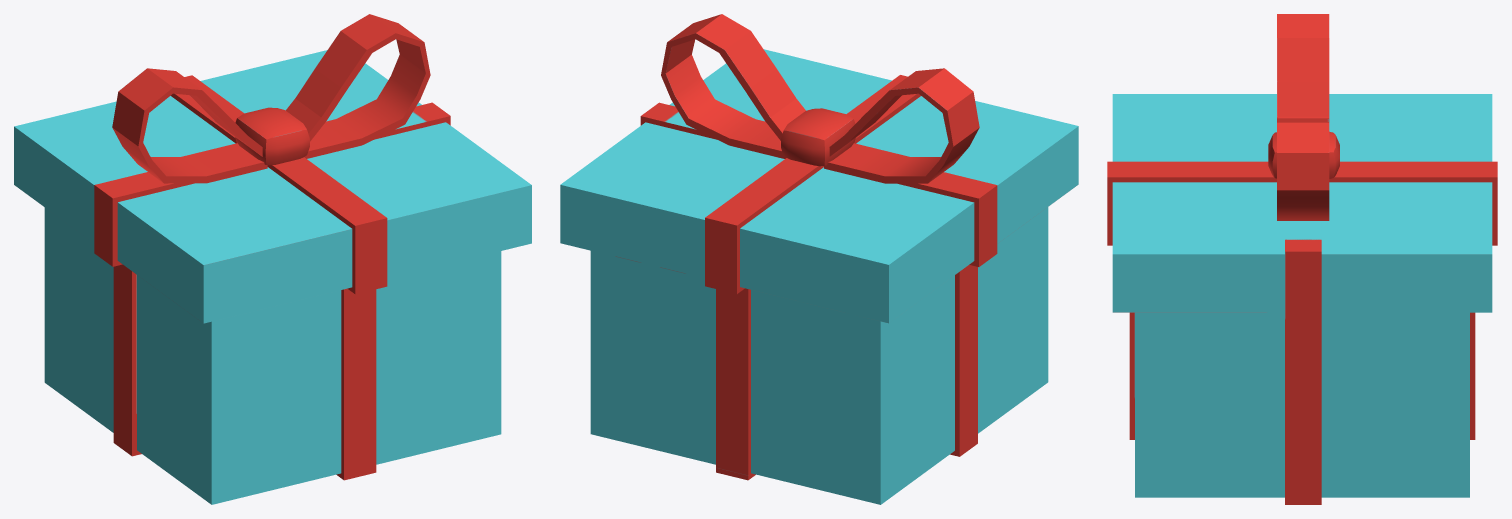
Rendered from presentbox_4.fbx.
3 renders of one model, left to right at view 1: azimuth 30°, elevation 25°; view 2: azimuth 150°, elevation 25°; view 3: azimuth 270°, elevation 25°, orthographic.
Parts seen in each view (by area): view 1: Box001; view 2: Box001; view 3: Box001.
Boxes of the visible parts, x1,y1,x2,y2 form: Box001: (14,14,531,504); Box001: (560,14,1078,504); Box001: (1107,14,1497,504).
Bounding box in the file's own units: 70 × 71.8 × 70.
